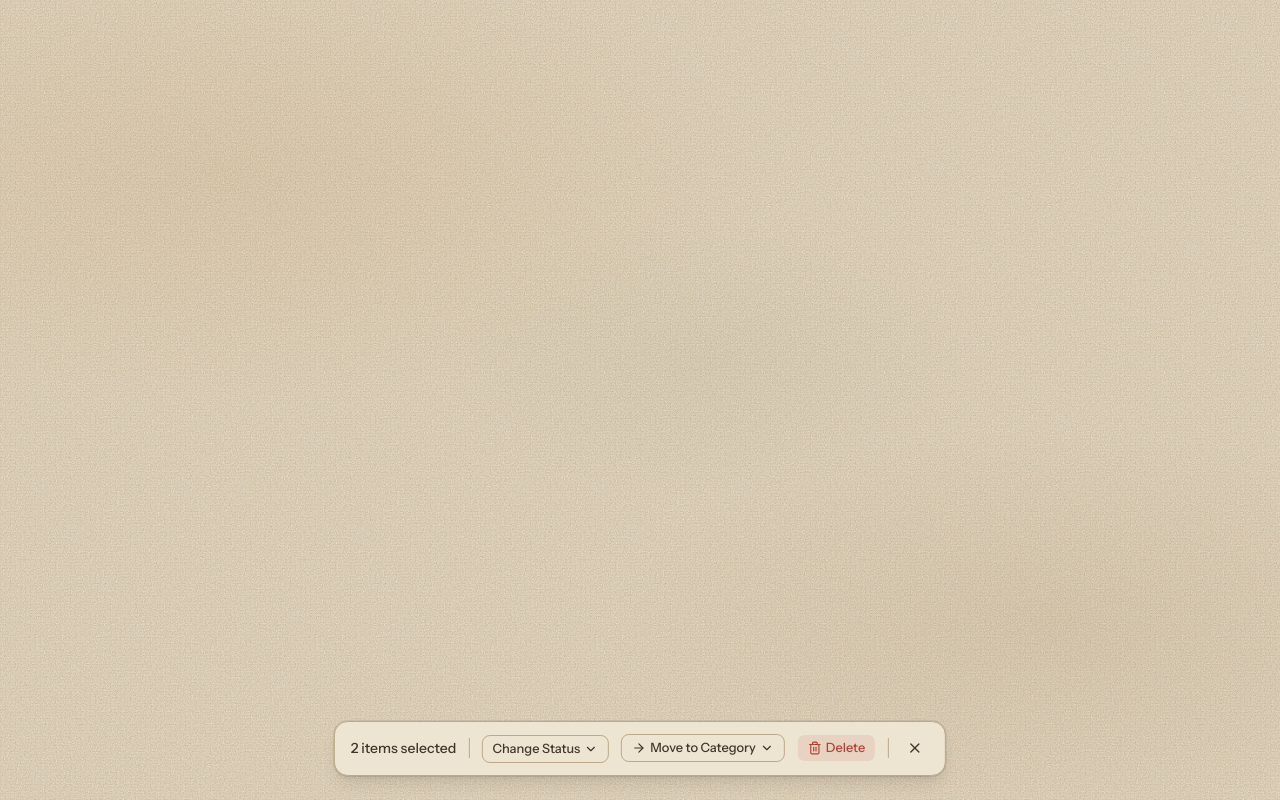
Scenario: BulkActionBar › closes status menu after selecting an option
The width and height of the screenshot is (1280, 800).
Click the button "Change Status". click: (545, 749)
box: 481,735 -> 609,763
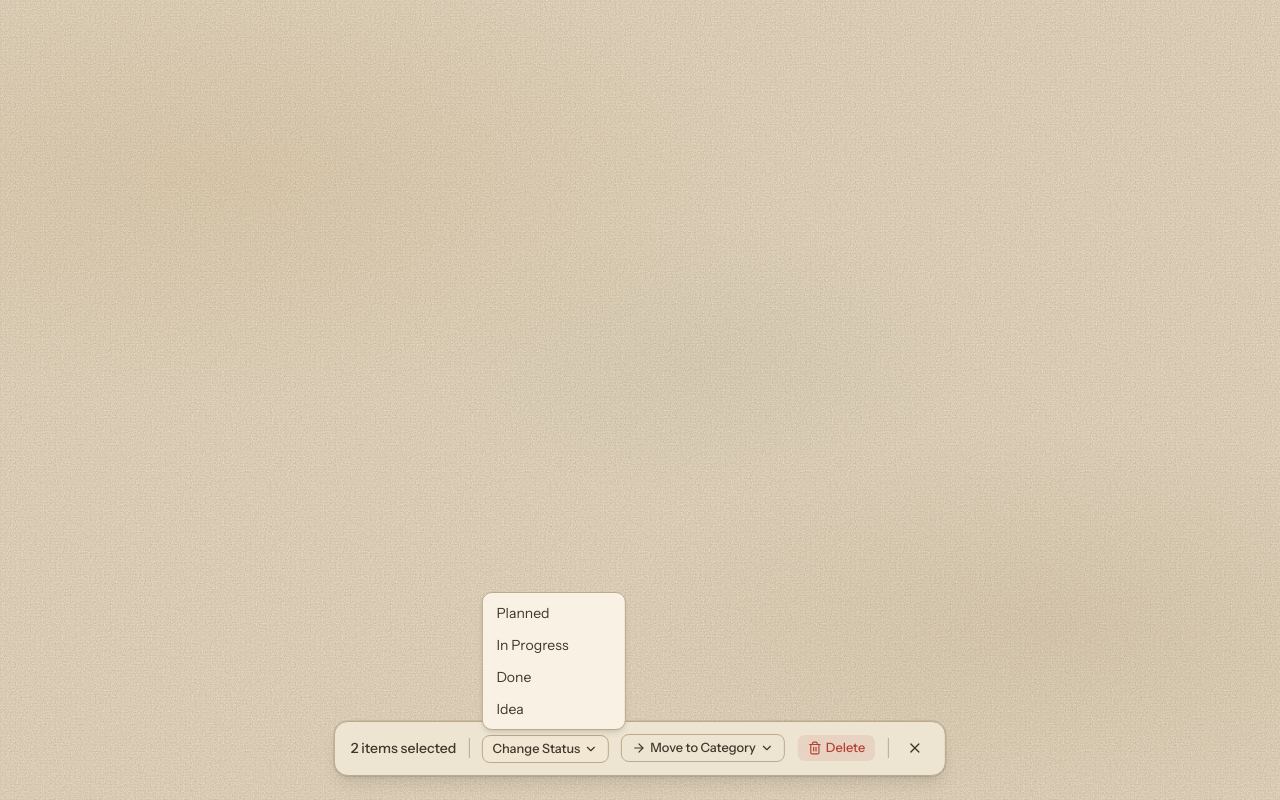
Click the menu item "Done". click: (553, 677)
box: 486,661 -> 620,693
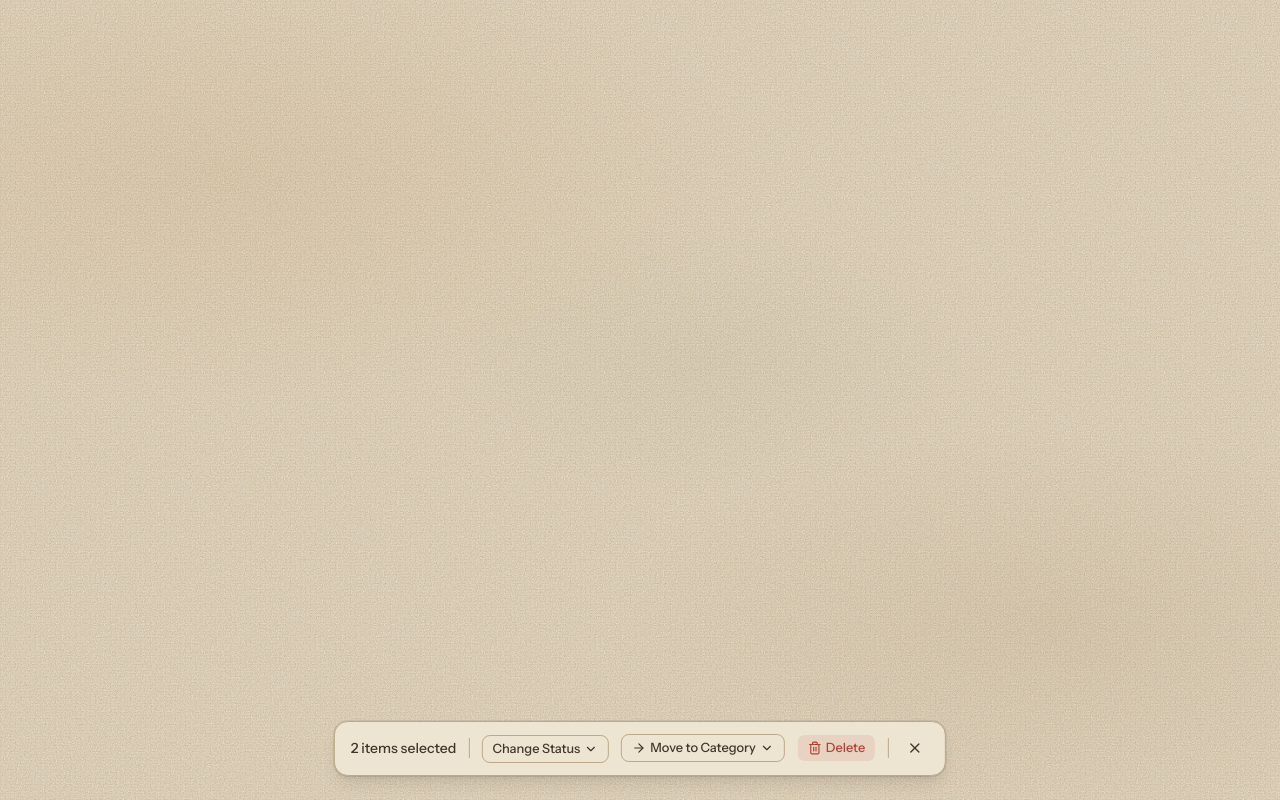
Expected: the menu is gone
